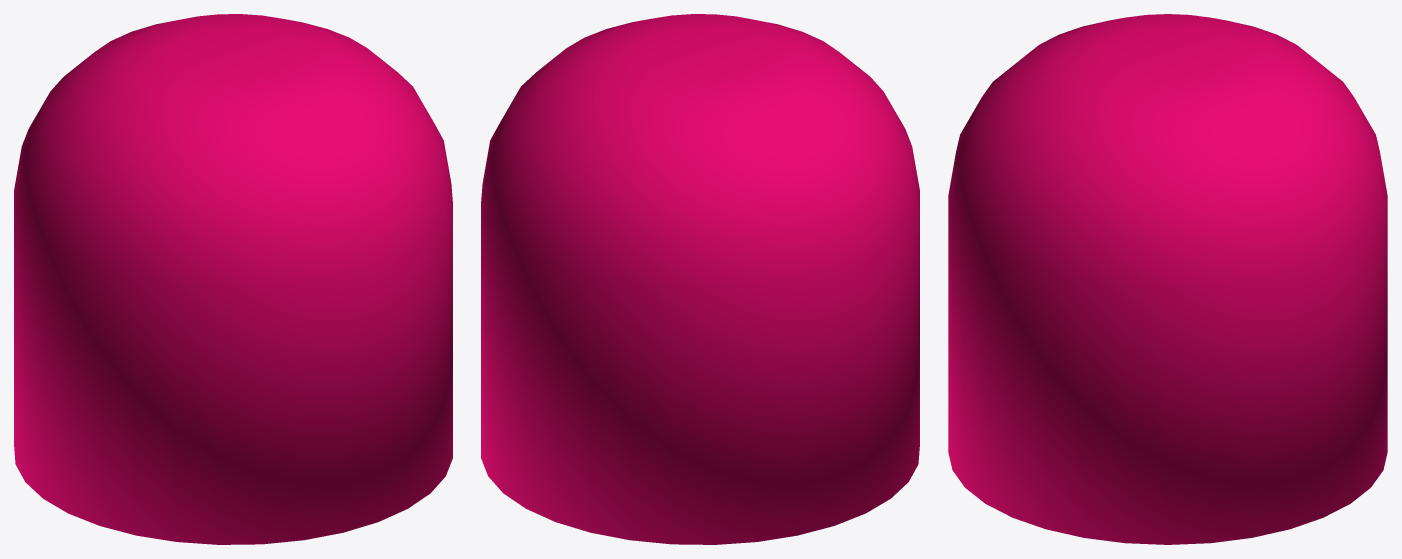
File: AnomalyBoton3Bolita.fbx
3 views of the same model, side by side, from view 1: azimuth 30°, elevation 25°; view 2: azimuth 150°, elevation 25°; view 3: azimuth 270°, elevation 25° (orthographic).
Parts seen in each view (by area): view 1: Cube.019; view 2: Cube.019; view 3: Cube.019.
Part boxes in pixels (box(x1,y1,x2,y2)): Cube.019: box(14, 14, 452, 544); Cube.019: box(481, 14, 919, 544); Cube.019: box(948, 14, 1387, 544).
Bounding box in the file's own units: 3.29 × 3.29 × 3.29.
